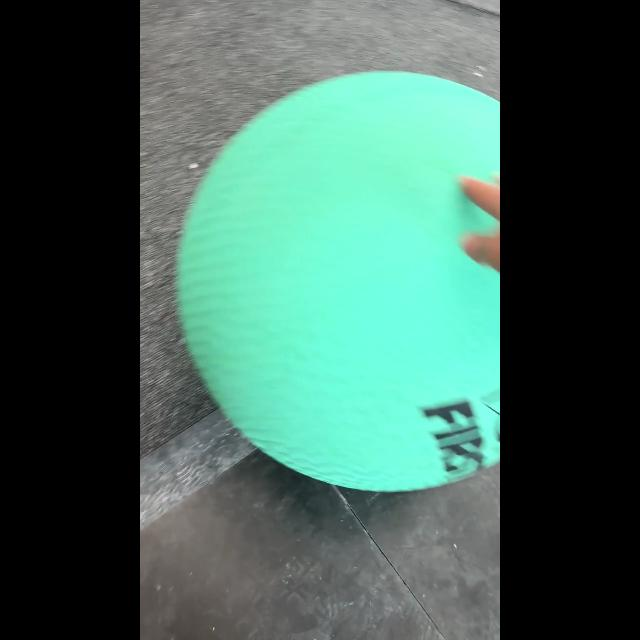ALGAE: (175, 70, 499, 492)
